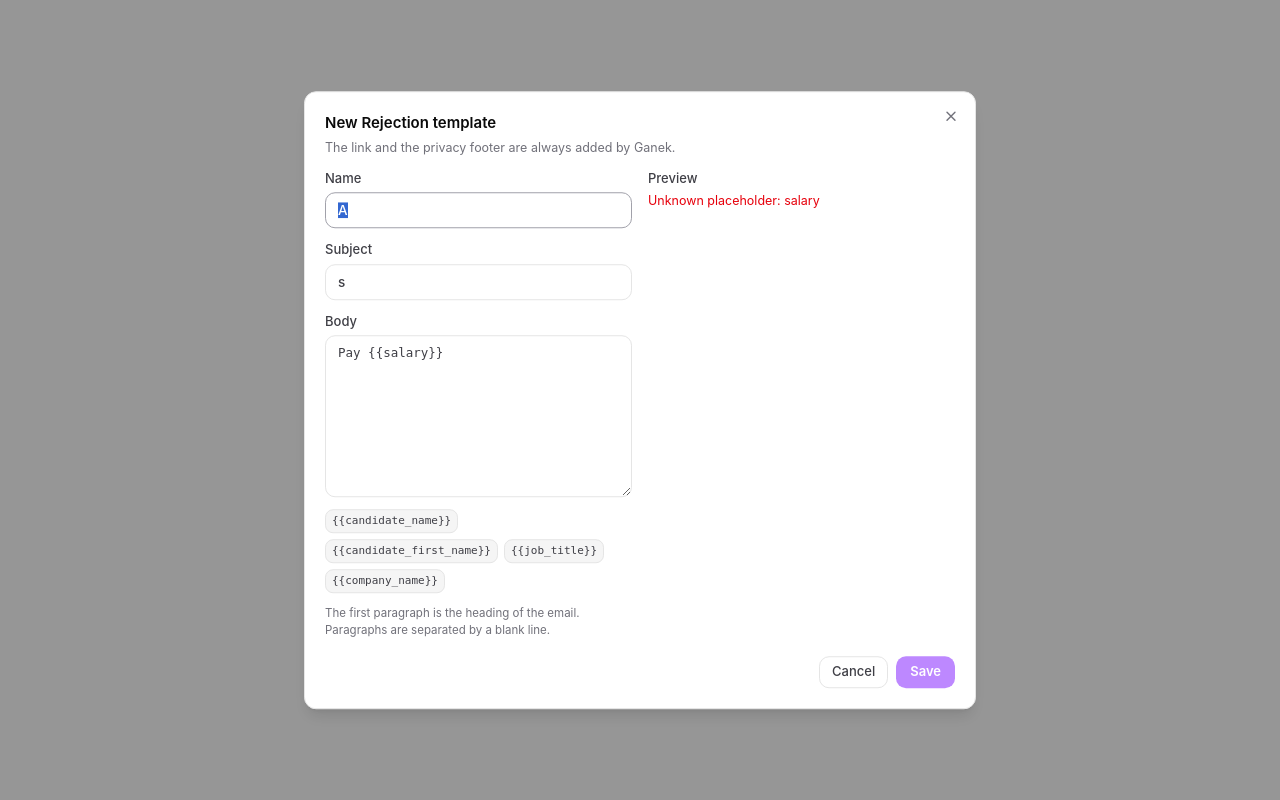
Scenario: EmailTemplateEditor › names the unknown placeholder and disables Save until it is fixed
The width and height of the screenshot is (1280, 800).
Expected: the message reads "Unknown placeholder: salary", [648,193,820,208]
Expected: the button "Save" is disabled, [896,656,955,688]
Replace the text in the text box labelled "Body" with "Pay well" at (478, 416), box [325,335,632,497]
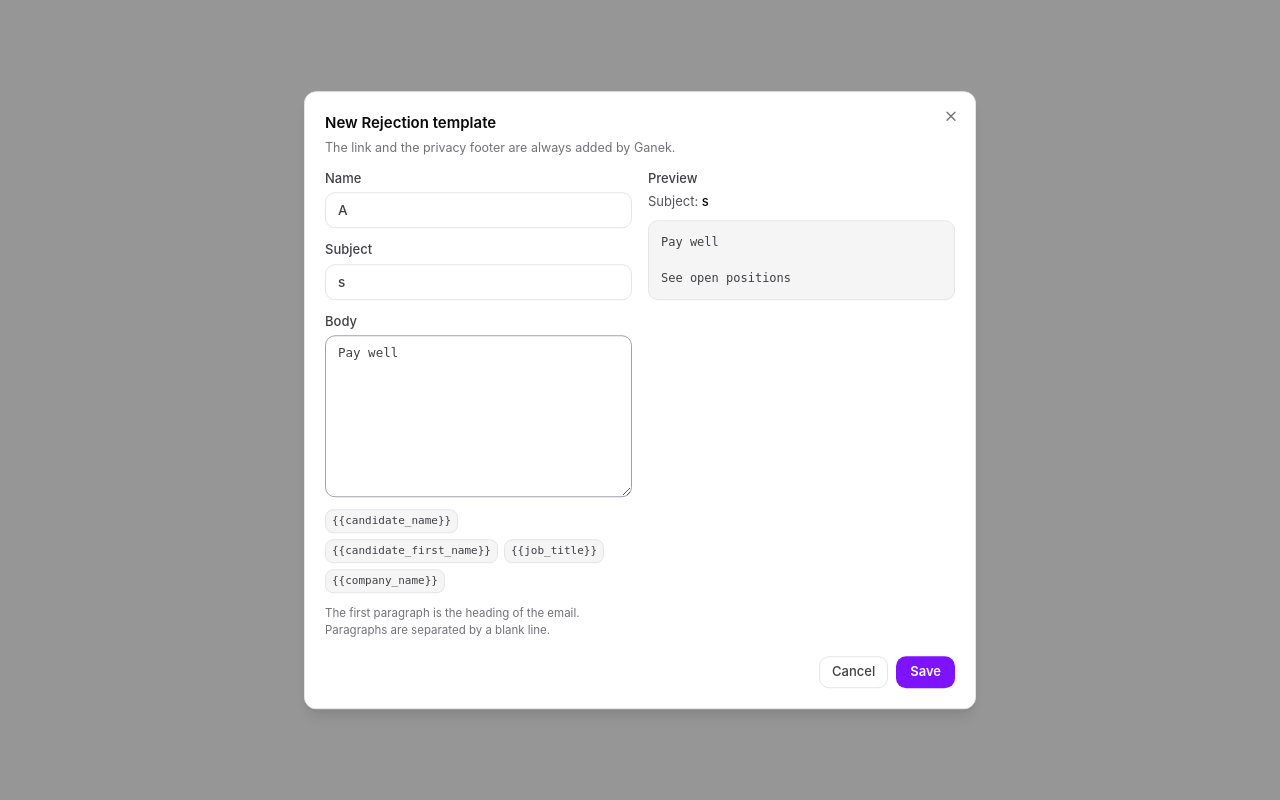
Expected: the message "Unknown placeholder: salary" is not shown
Expected: the button "Save" is enabled, [896,656,955,688]
